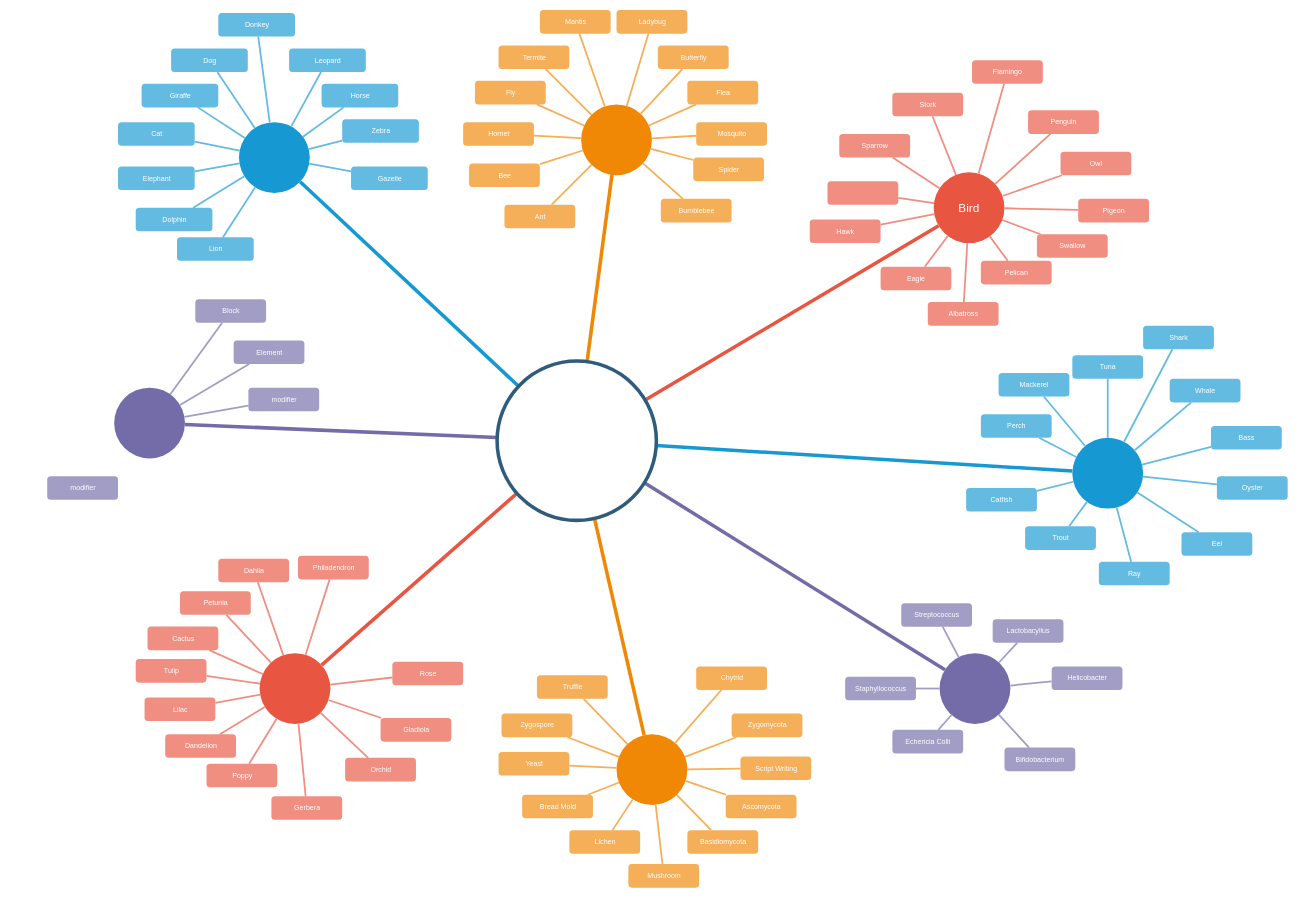
The diagram is 1297 pixels wide and 898 high, and some of its shapes have lost their labels. Each missing label, with the centre of its shape:
"Bacteria" goes at (x=974, y=688).
"BEM" goes at (x=149, y=422).
"Falcon" goes at (x=862, y=192).
"Fish" goes at (x=1107, y=472).
"Flower" goes at (x=294, y=688).
"Fungi" goes at (x=651, y=769).
"Insect" goes at (x=616, y=139).
"LIVING BEINGS" goes at (x=576, y=440).
"Quy trình thiết kế web" goes at (x=274, y=157).
